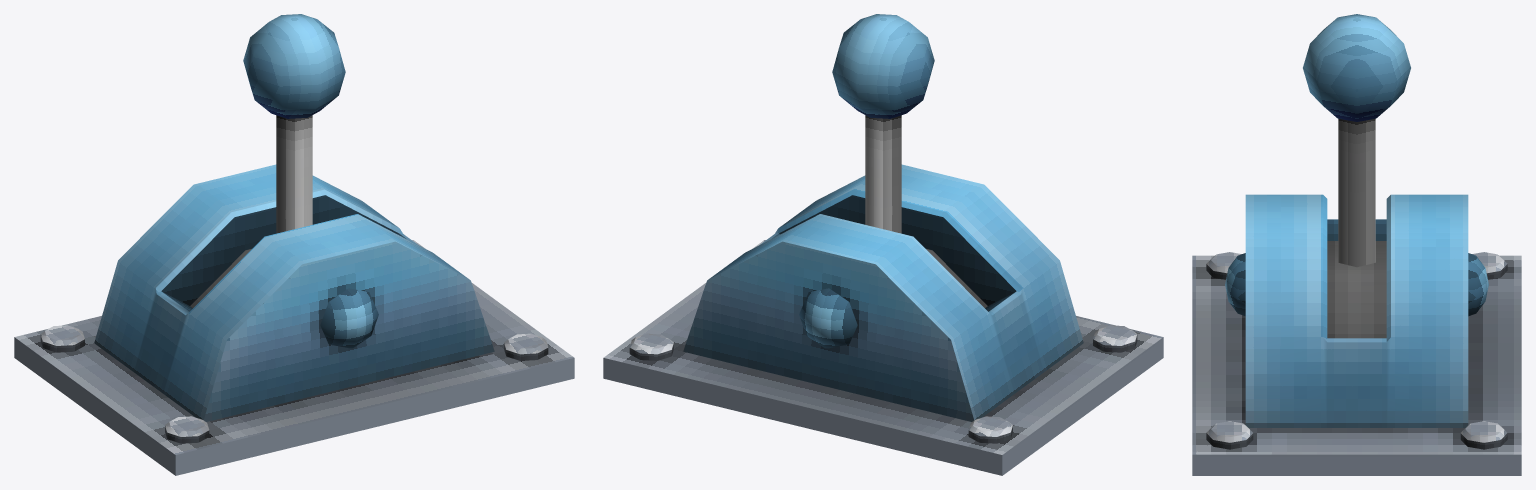
The model's file is Lever Switch Blue.fbx.
3 views of the same model, side by side, from view 1: azimuth 30°, elevation 25°; view 2: azimuth 150°, elevation 25°; view 3: azimuth 270°, elevation 25° (orthographic). The views are drawn at different scales.
Parts seen in each view (by area): view 1: Switchb, Lever_b; view 2: Switchb, Lever_b; view 3: Switchb, Lever_b.
Boxes of the visible parts, left/top/right/bottom form: Switchb: left=14, top=164, right=574, bottom=475; Lever_b: left=243, top=14, right=345, bottom=233; Switchb: left=603, top=164, right=1163, bottom=475; Lever_b: left=832, top=14, right=934, bottom=233; Switchb: left=1192, top=194, right=1521, bottom=475; Lever_b: left=1303, top=14, right=1410, bottom=267.
Size of the model in its own units: 1 by 0.8383 by 0.7.
